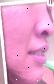without_mask: (1, 1, 54, 84)
